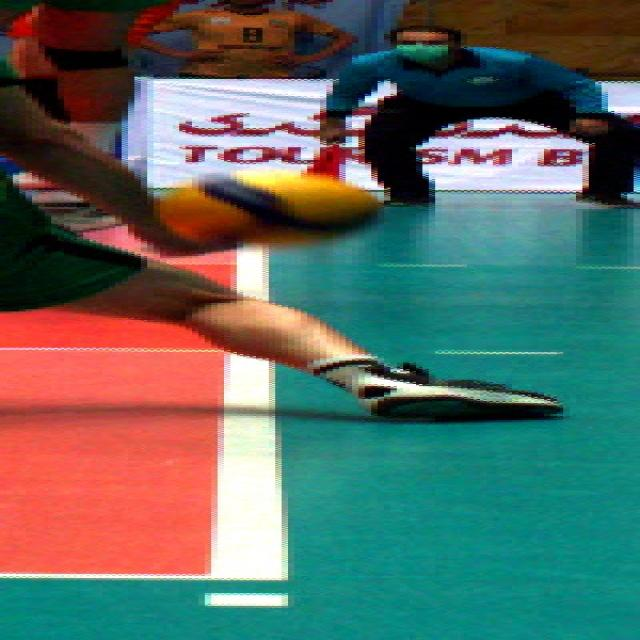Volleyball: (151, 169, 381, 244)
